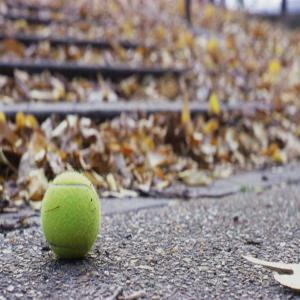TennisBall: (42, 168, 101, 262)
